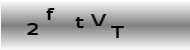2: (26, 22, 39, 36)
T: (111, 25, 126, 39)
V: (90, 12, 106, 28)
f: (45, 6, 56, 21)
t: (73, 16, 86, 29)
